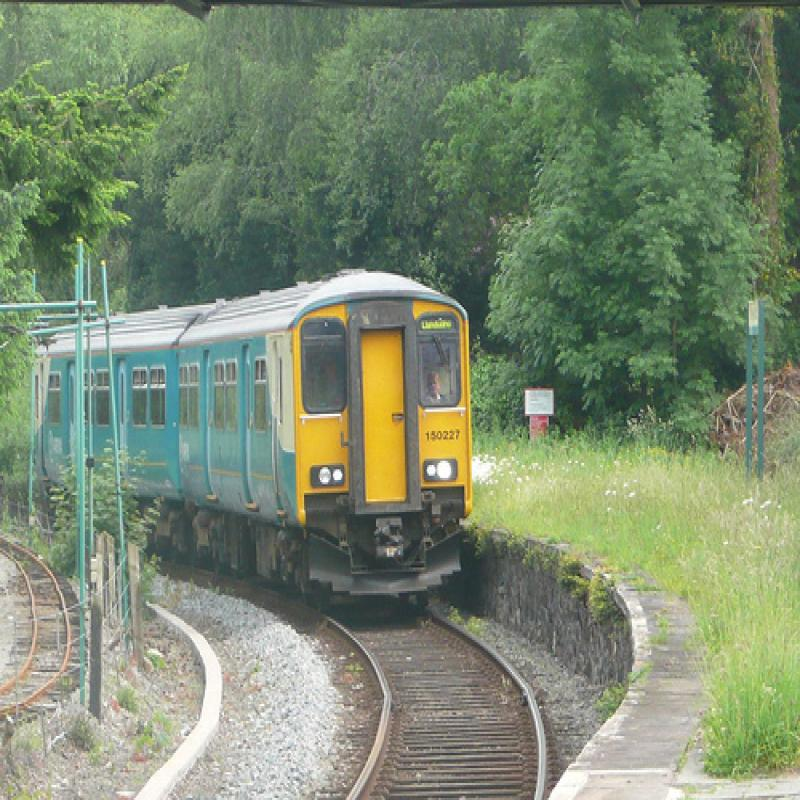train: (35, 268, 476, 620)
